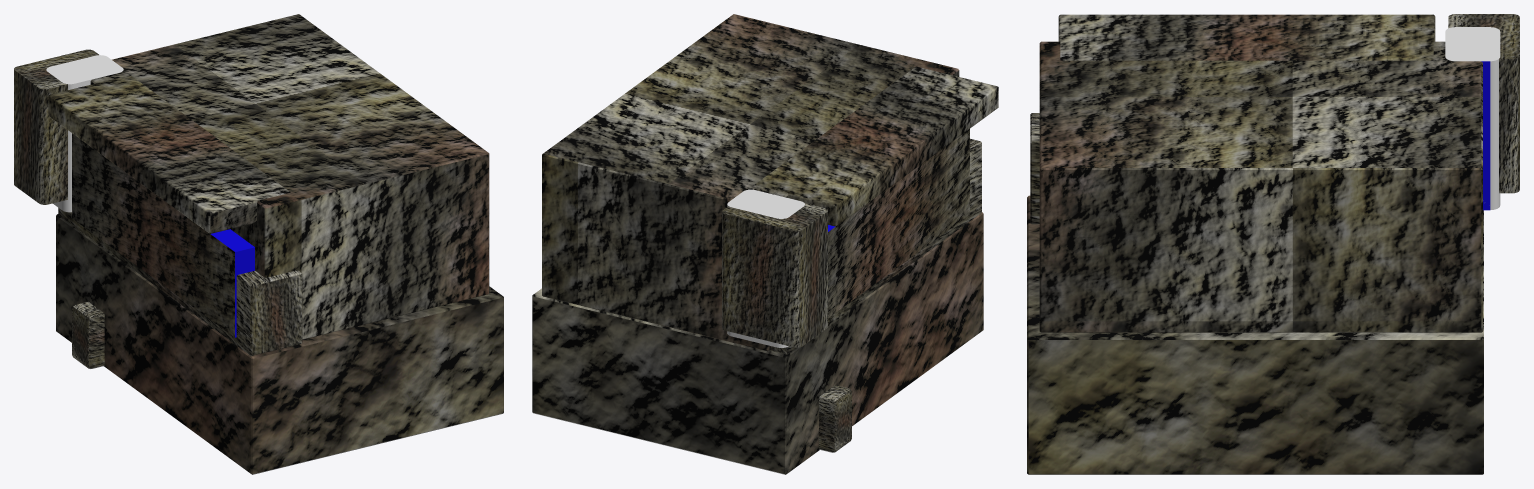
The model's file is shopModel.fbx.
The picture shows the model from 3 angles, left to right: view 1: azimuth 30°, elevation 25°; view 2: azimuth 150°, elevation 25°; view 3: azimuth 270°, elevation 25°; orthographic projection. The views are drawn at different scales.
Visible parts, largest first — view 1: Cube.001, Cutter.006, Cutter.007, Cutter.009, Cutter.010, Cutter.005, Cutter, Cutter.001; view 2: Cube.001, Cutter.007, Cutter.010, Cutter.009, Cutter.006, Cutter, Cutter.005, Cutter.001; view 3: Cube.001, Cutter.007, Cutter.006, Cutter.010, Cutter.001, Inset.
Part boxes in pixels (x1,y1,x2,y2): Cube.001: (56, 14, 503, 474); Cutter.006: (90, 14, 489, 339); Cutter.007: (48, 75, 290, 233); Cutter.009: (72, 133, 254, 337); Cutter.010: (14, 49, 98, 204); Cutter.005: (58, 208, 302, 355); Cutter: (72, 301, 104, 368); Cutter.001: (46, 55, 123, 212); Cube.001: (532, 14, 983, 474); Cutter.007: (754, 66, 998, 226); Cutter.010: (722, 203, 827, 347); Cutter.009: (828, 129, 969, 317); Cutter.006: (543, 70, 959, 350); Cutter: (819, 385, 851, 452); Cutter.005: (769, 141, 981, 353); Cutter.001: (727, 189, 804, 347); Cube.001: (1027, 41, 1483, 474); Cutter.007: (1058, 14, 1435, 60); Cutter.006: (1039, 42, 1481, 332); Cutter.010: (1448, 14, 1519, 193); Cutter.001: (1445, 27, 1500, 209); Inset: (1481, 61, 1490, 210).
Bounding box in the file's own units: 500 × 441 × 652.
